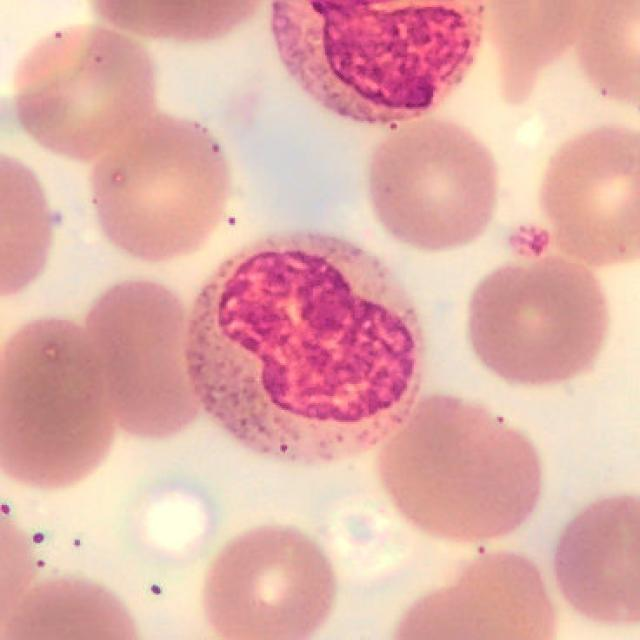Mieloblasto: (183, 234, 426, 467)
